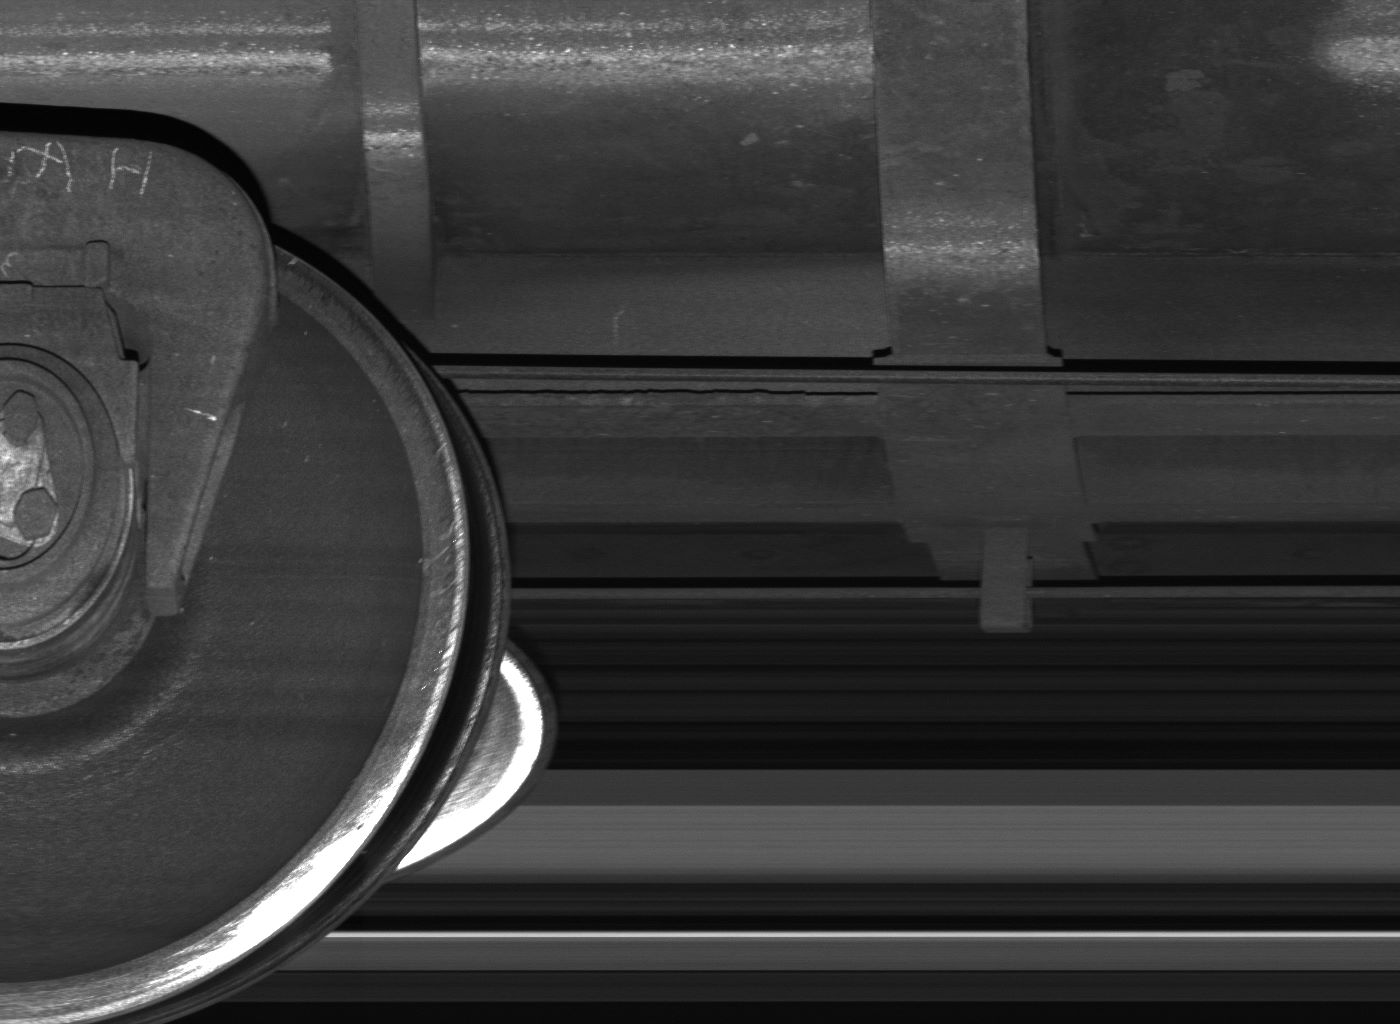normal: (982, 529, 1036, 635)
